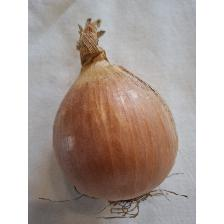Zwiebel: (52, 18, 180, 210)
